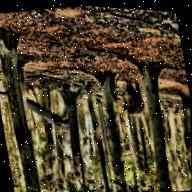boar: (116, 79, 148, 125)
